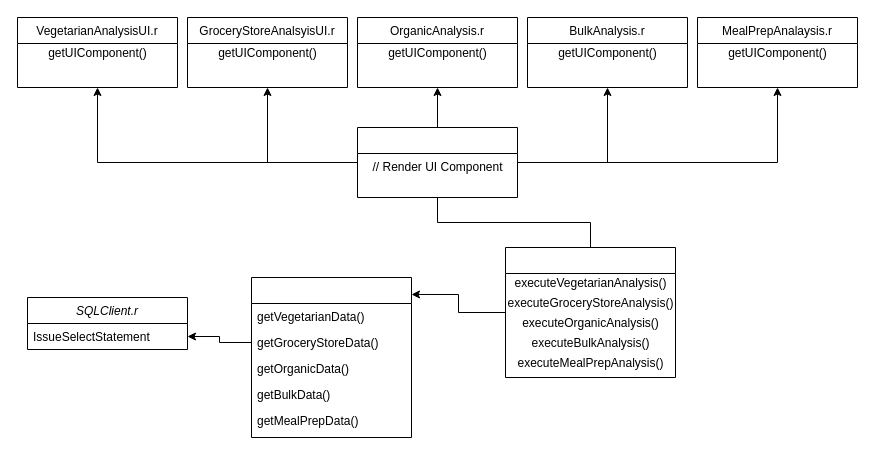
Image size: 875x455. Some labels were removed from this diagram. Each missing label, with the box of its shape:
App.r: (504, 246, 676, 378)
DataManager.r: (250, 276, 412, 438)
UI.r: (356, 126, 518, 198)
